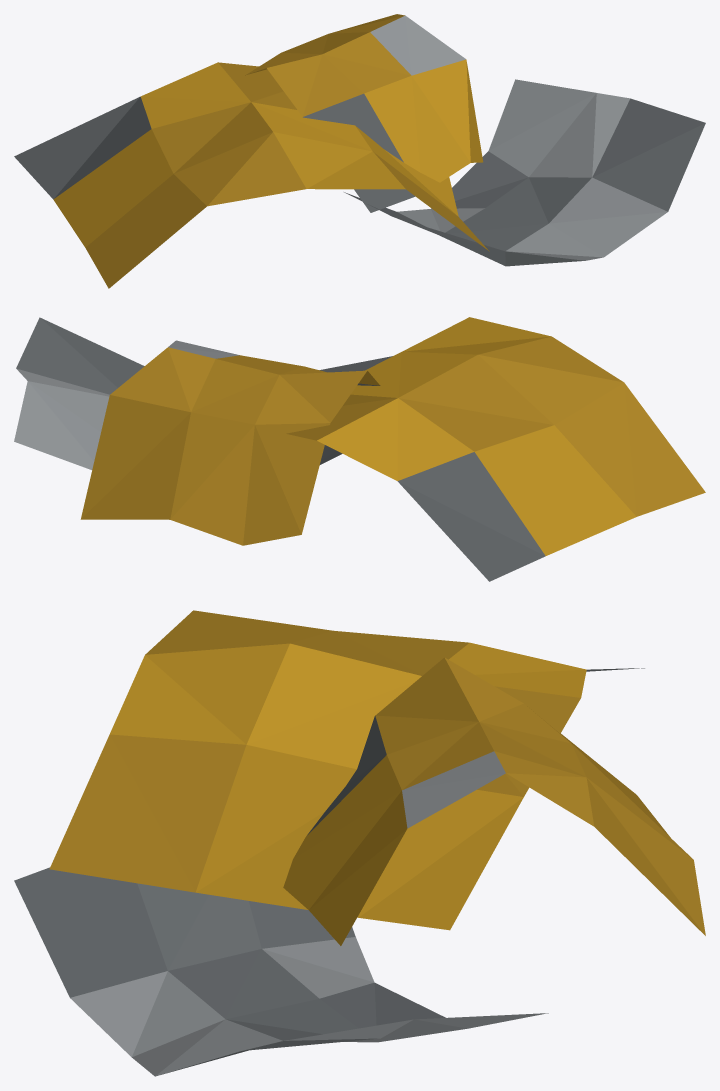
Rendered from debris.glb.
3 views of the same model, one above another, from view 1: azimuth 30°, elevation 25°; view 2: azimuth 150°, elevation 25°; view 3: azimuth 270°, elevation 25° (orthographic). The views are drawn at different scales.
Visible parts, largest first — view 1: debris; view 2: debris; view 3: debris.
Boxes of the visible parts, <box> form: debris: <box>14,14,705,288</box>; debris: <box>14,317,705,581</box>; debris: <box>14,610,705,1076</box>.
Size of the model in its own units: 0.9352 by 0.2463 by 0.6463.
